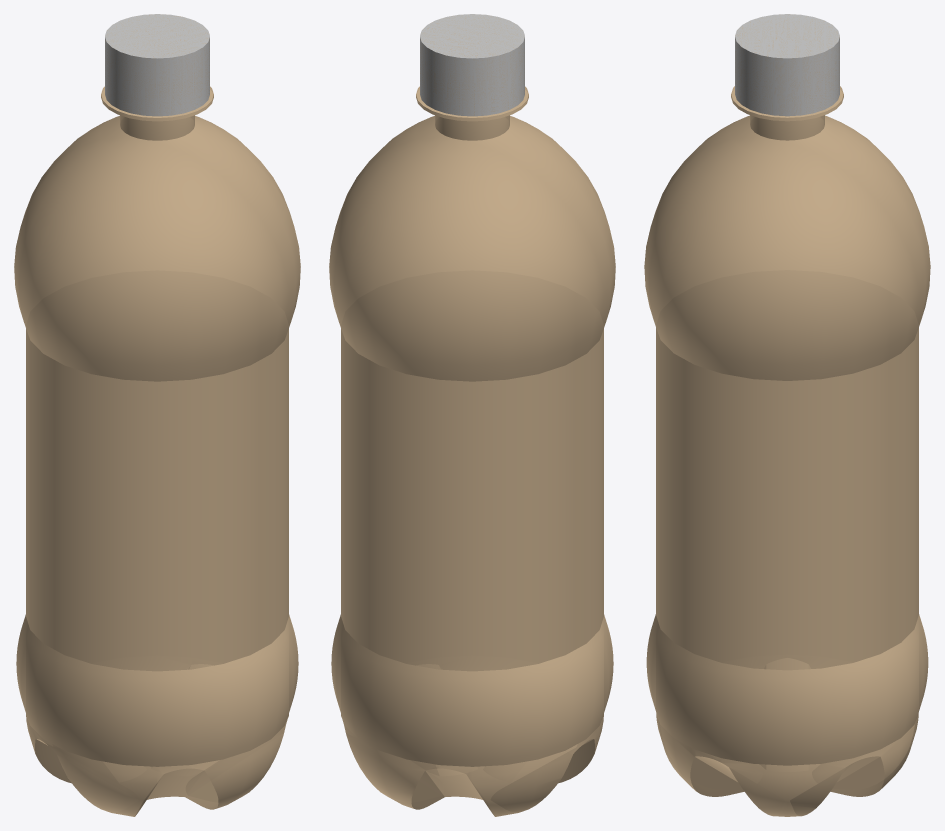
3 renders of one model, left to right at view 1: azimuth 30°, elevation 25°; view 2: azimuth 150°, elevation 25°; view 3: azimuth 270°, elevation 25°, orthographic.
Visible parts, largest first — view 1: mesh1_mesh1-geometry, mesh2_mesh2-geometry; view 2: mesh1_mesh1-geometry, mesh2_mesh2-geometry; view 3: mesh1_mesh1-geometry, mesh2_mesh2-geometry.
Part boxes in pixels (x1,y1,x2,y2): mesh1_mesh1-geometry: (14,86,300,816); mesh2_mesh2-geometry: (105,14,209,116); mesh1_mesh1-geometry: (329,86,615,816); mesh2_mesh2-geometry: (420,14,524,116); mesh1_mesh1-geometry: (644,86,930,816); mesh2_mesh2-geometry: (735,14,839,116).
Size of the model in its own units: 0.3114 by 0.8978 by 0.3114.
